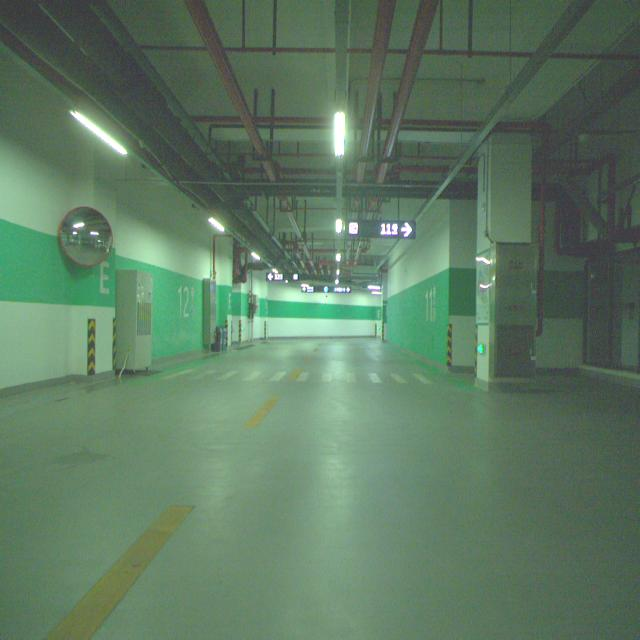pillar: (476, 146, 534, 393)
wall: (70, 177, 116, 384)
